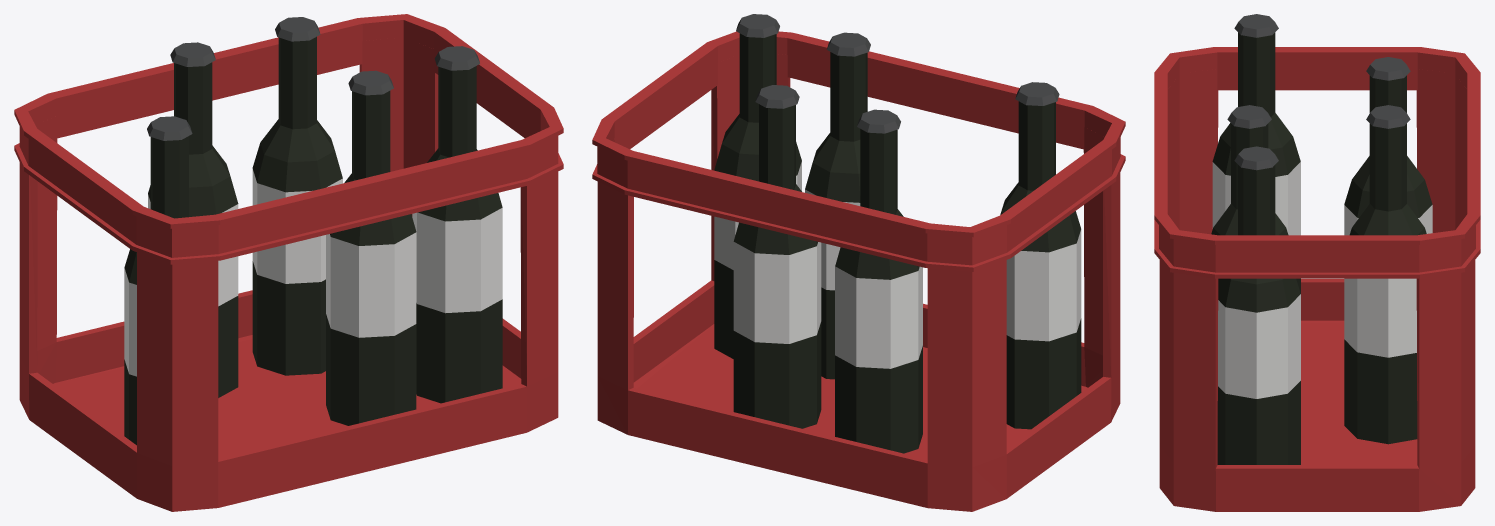
Rendered from SM_bottlecase_halffull.fbx.
The picture shows the model from 3 angles, left to right: view 1: azimuth 30°, elevation 25°; view 2: azimuth 150°, elevation 25°; view 3: azimuth 270°, elevation 25°; orthographic projection. The views are drawn at different scales.
Parts seen in each view (by area): view 1: Object015; view 2: Object015; view 3: Object015.
Boxes of the visible parts, left/top/right/bottom form: Object015: left=14, top=14, right=563, bottom=511; Object015: left=592, top=14, right=1125, bottom=511; Object015: left=1154, top=14, right=1480, bottom=511.
Size of the model in its own units: 23.37 by 16.61 by 18.31.
